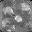people: (3, 6, 15, 16), (2, 18, 11, 27), (15, 15, 22, 22)
